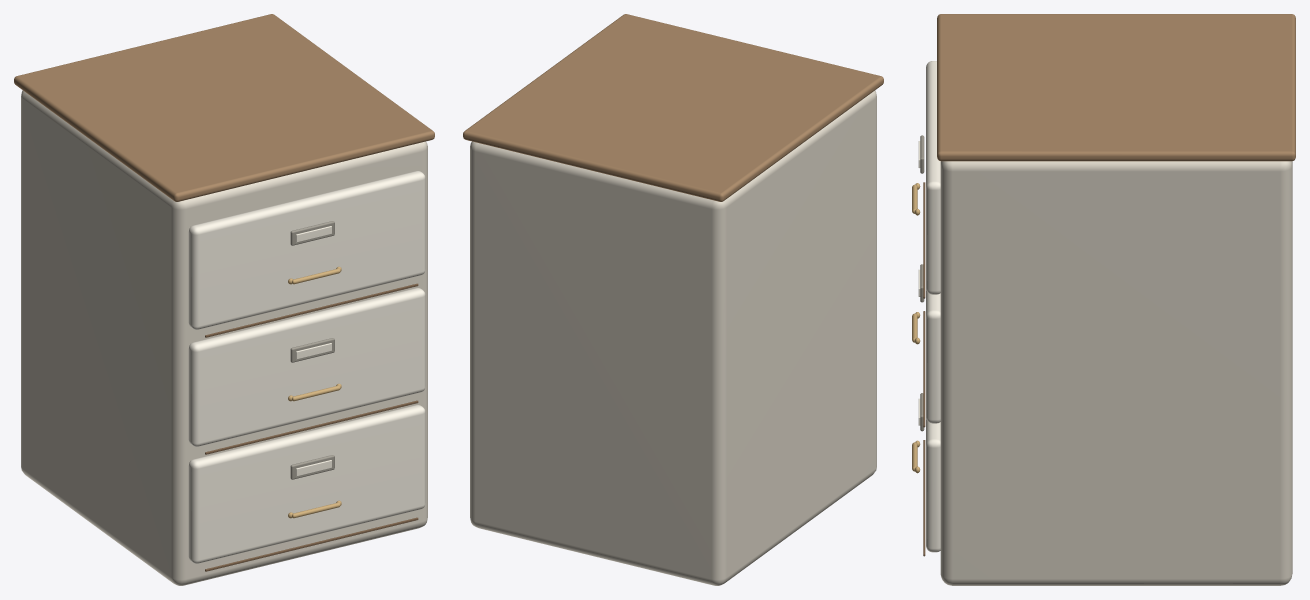
Rendered from filing_cabinet.glb.
The picture shows the model from 3 angles, left to right: view 1: azimuth 30°, elevation 25°; view 2: azimuth 150°, elevation 25°; view 3: azimuth 270°, elevation 25°; orthographic projection. The views are drawn at different scales.
Visible parts, largest first — view 1: Cabinet shell, Top edge, Drawer face.001, Drawer face.002, Drawer face, Drawer seam.001, Drawer seam.002, Drawer seam; view 2: Cabinet shell, Top edge; view 3: Cabinet shell, Top edge, Drawer face.002, Drawer face, Drawer face.001.
Part boxes in pixels (<box>): Cabinet shell: <box>21,90,427,585</box>; Top edge: <box>14,14,434,201</box>; Drawer face.001: <box>188,288,425,446</box>; Drawer face.002: <box>188,171,425,329</box>; Drawer face: <box>188,405,425,563</box>; Drawer seam.001: <box>205,400,418,454</box>; Drawer seam.002: <box>205,283,418,337</box>; Drawer seam: <box>205,517,418,571</box>; Cabinet shell: <box>470,90,876,585</box>; Top edge: <box>463,14,883,201</box>; Cabinet shell: <box>940,161,1292,585</box>; Top edge: <box>937,14,1295,161</box>; Drawer face.002: <box>926,61,940,294</box>; Drawer face: <box>926,418,940,552</box>; Drawer face.001: <box>926,289,940,423</box>.
Bounding box in the file's own units: 0.49 × 0.715 × 0.567.
